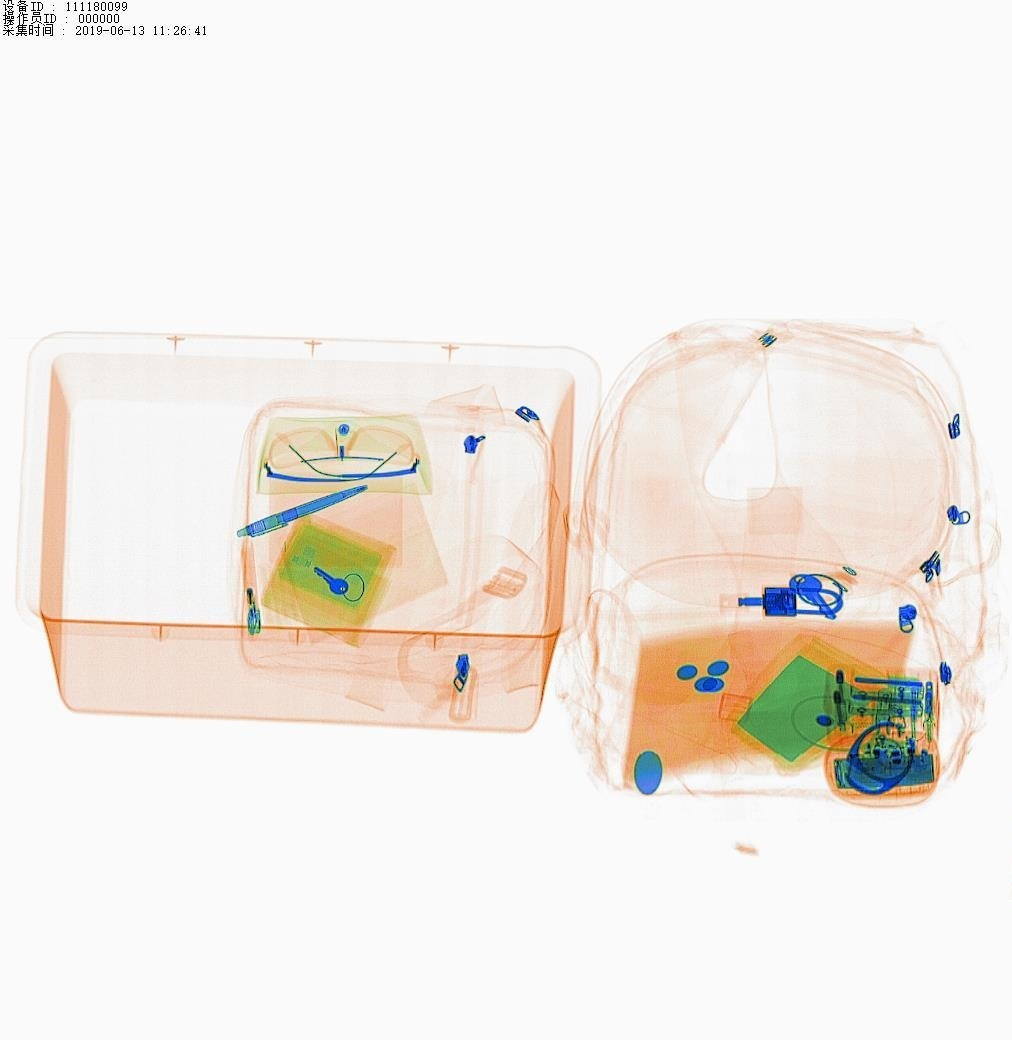NonmetallicFire: (223, 519, 280, 642)
